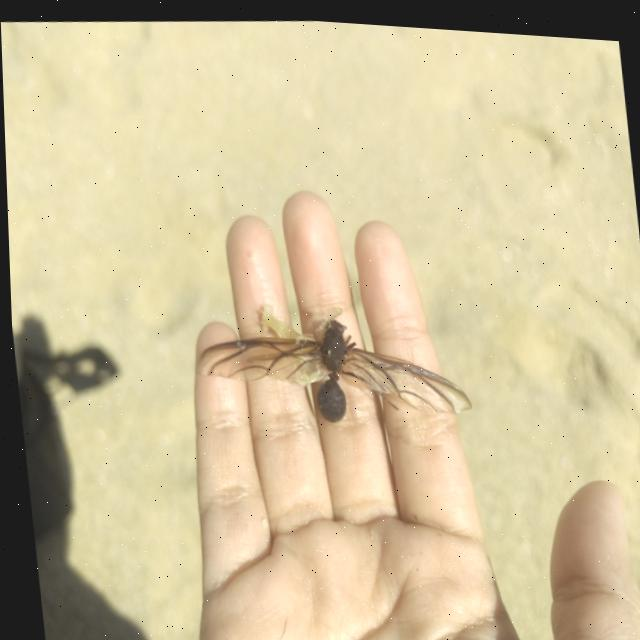Dead-Female-Alate: (187, 297, 470, 435)
